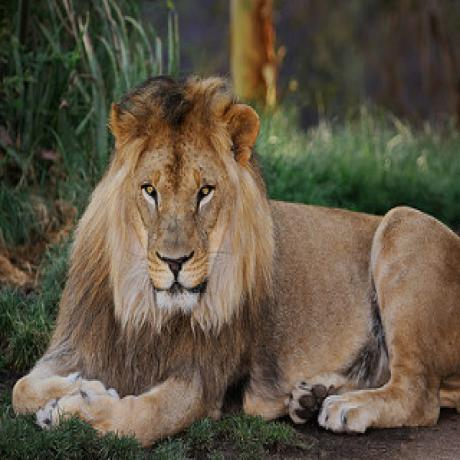Lion: (11, 72, 460, 445)
